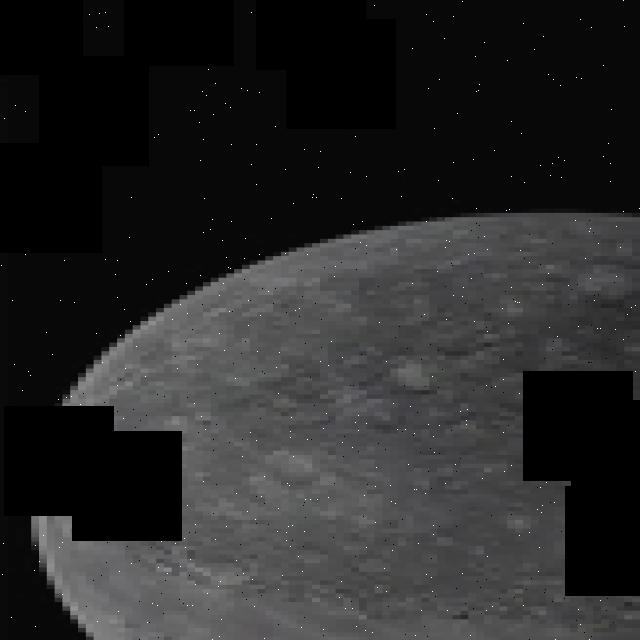Mercury: (23, 212, 640, 640)
